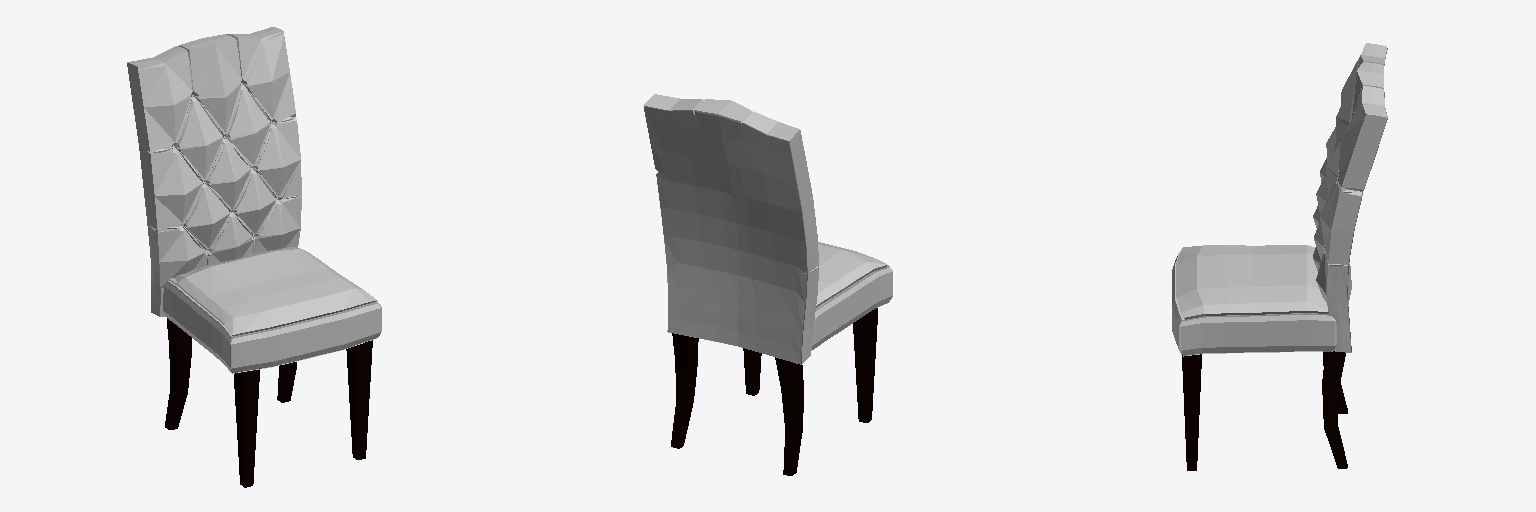
The model's file is chair.obj.
3 views of the same model, side by side, from view 1: azimuth 30°, elevation 25°; view 2: azimuth 150°, elevation 25°; view 3: azimuth 270°, elevation 25° (orthographic).
Visible parts, largest first — view 1: chair_Plane.007; view 2: chair_Plane.007; view 3: chair_Plane.007.
Boxes of the visible parts, box(x1,y1,x2,y2) form: chair_Plane.007: box(127, 27, 381, 487); chair_Plane.007: box(643, 94, 892, 475); chair_Plane.007: box(1172, 43, 1387, 470).
Size of the model in its own units: 2.78 by 6.42 by 3.41.